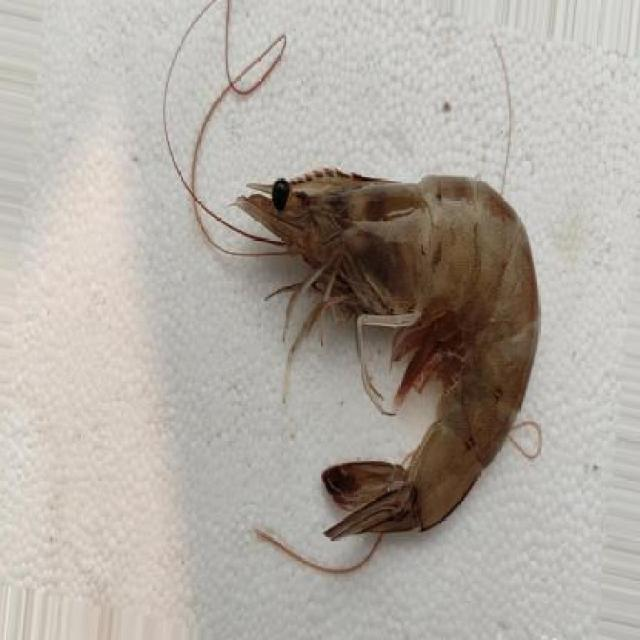shrimp: (224, 157, 545, 550)
